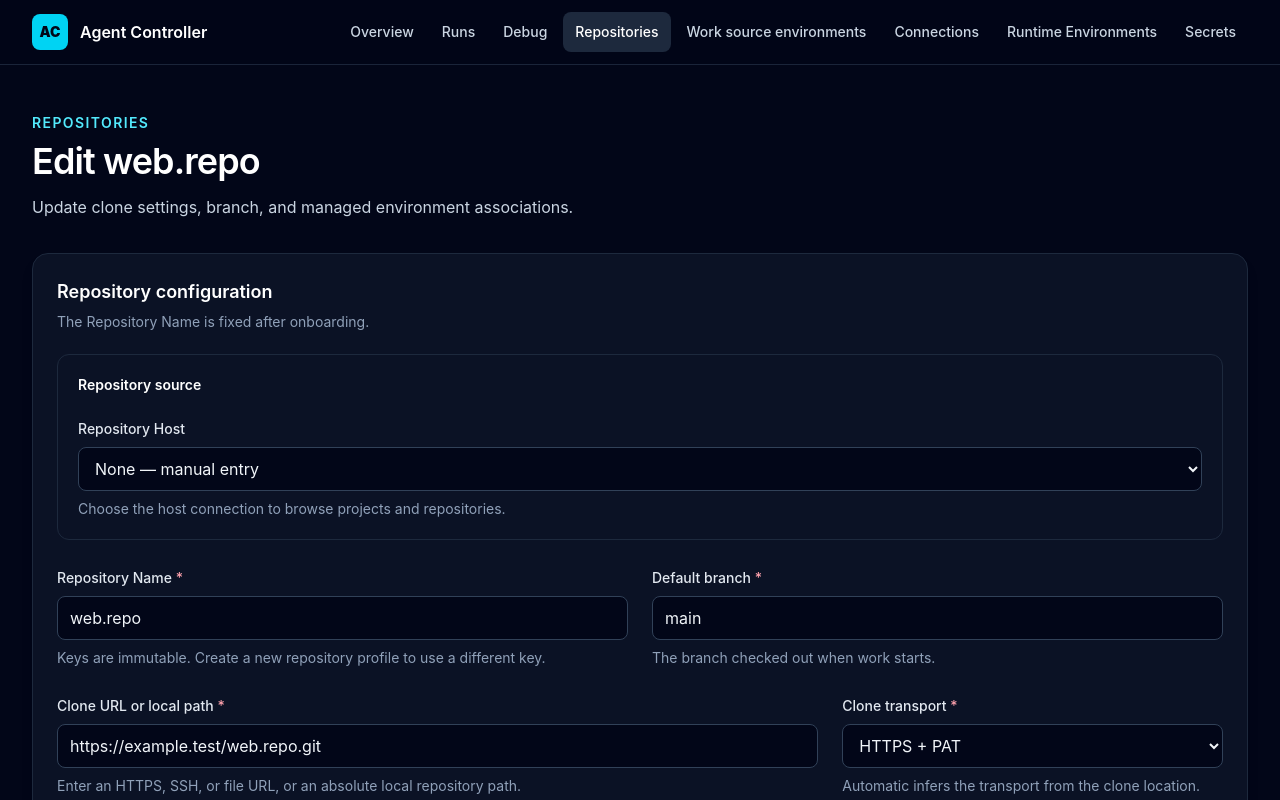
repository onboarding screens › updates repository settings while preserving the immutable key
Expected: the text "Keys are immutable" is shown, [57,649,546,666]
Replace the text in the field labelled "Default branch *" with "develop" at [938, 618], box [652,596,1223,640]
(page scrolled)
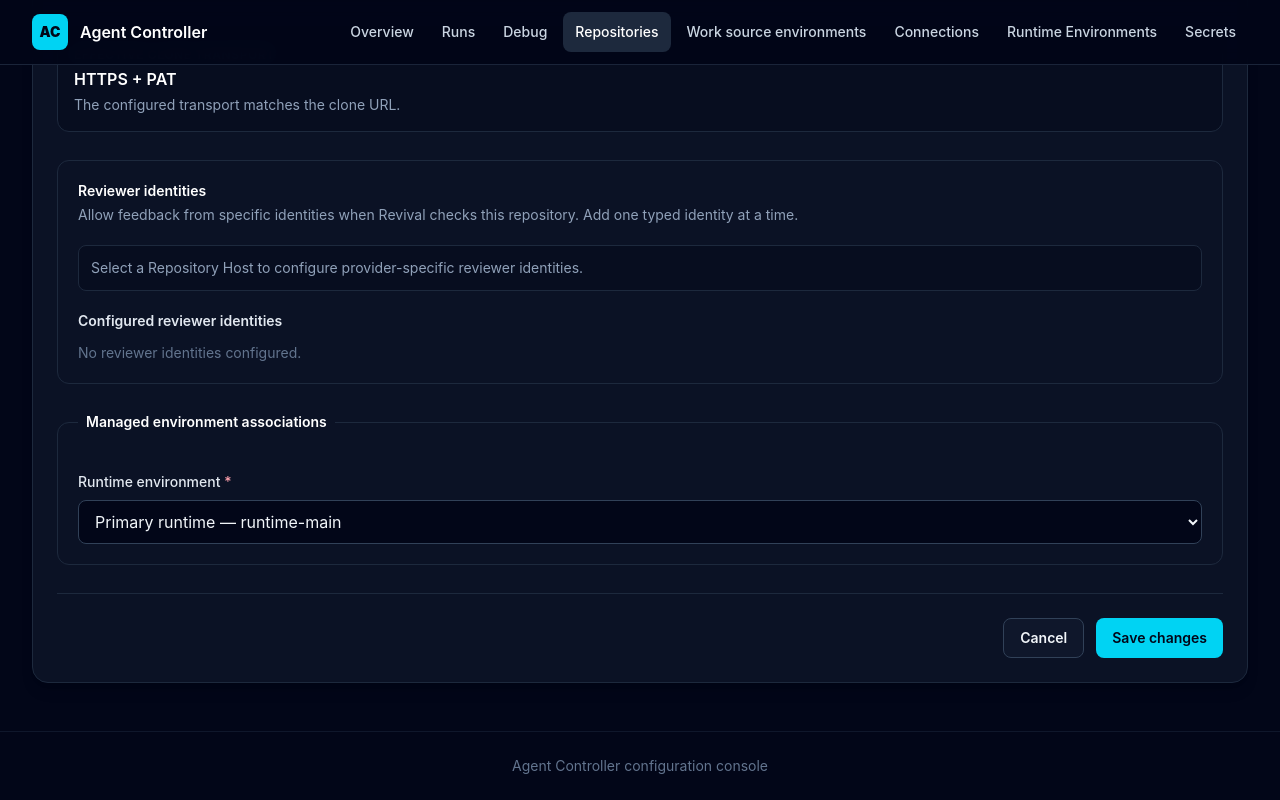
Click the button "Save changes" at [1160, 638], box [1096,618,1223,658]
(page scrolled)
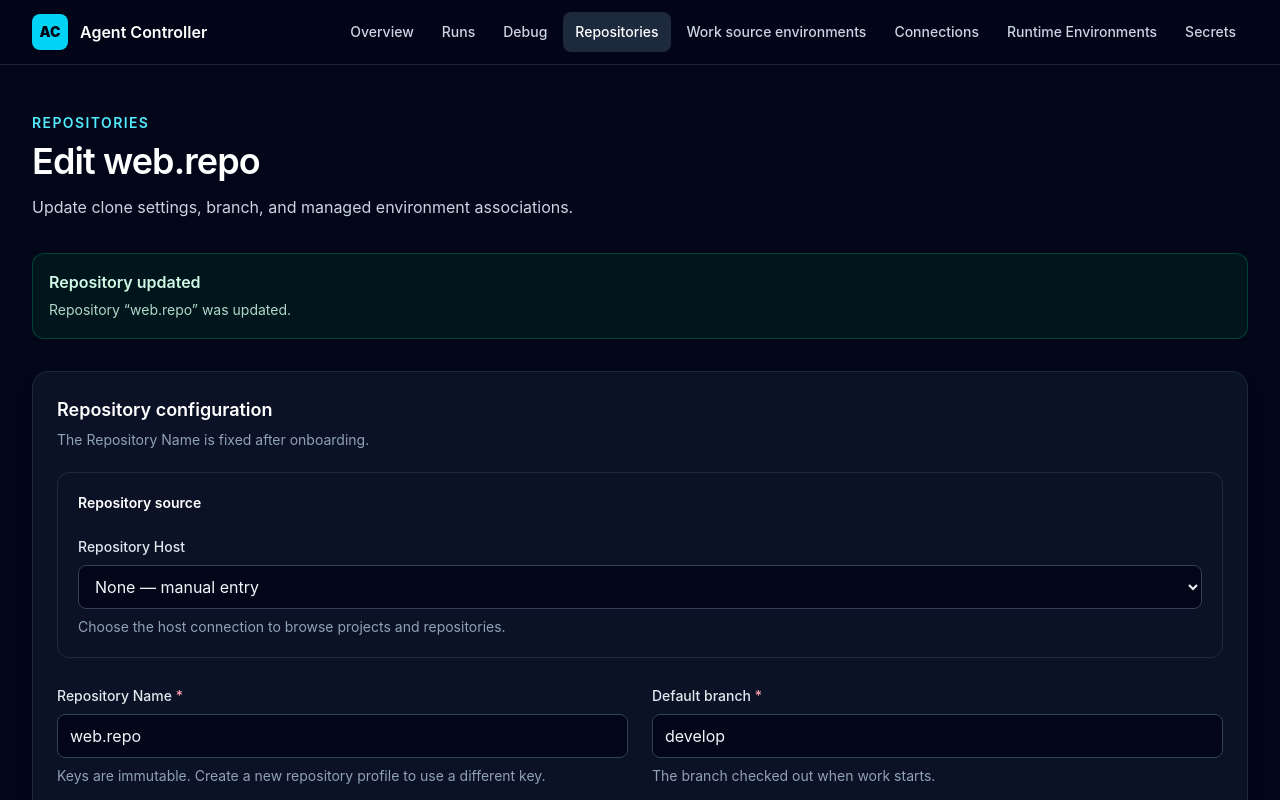
Expected: the text "Repository “web.repo” was updated." is shown, [49,301,291,318]
